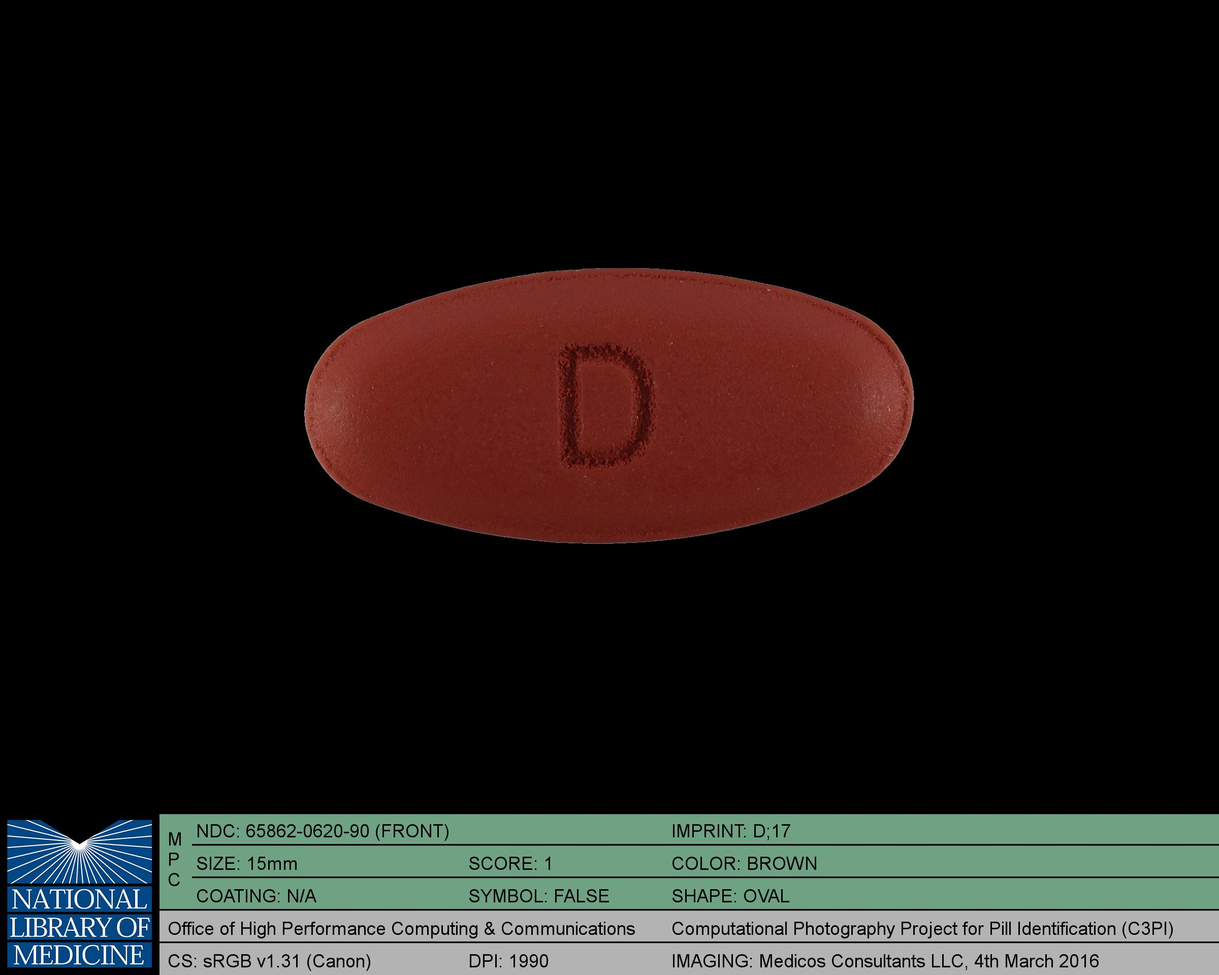Pill: (302, 267, 919, 550)
